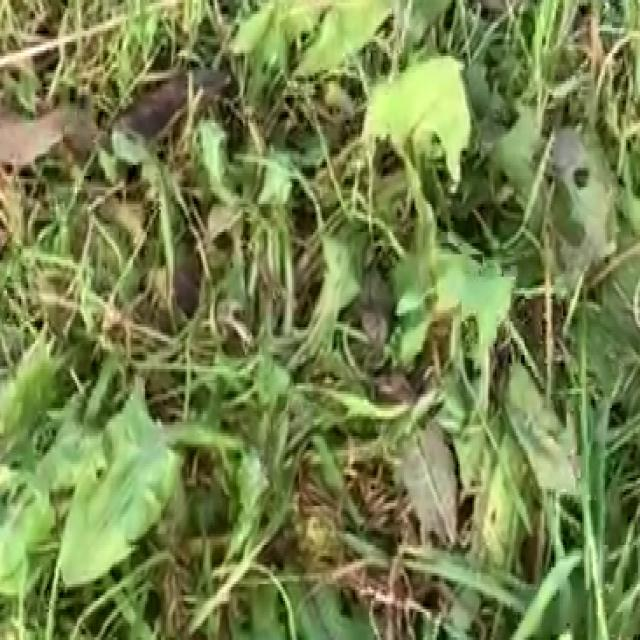organic waste: (215, 0, 575, 453), (21, 307, 395, 640)
